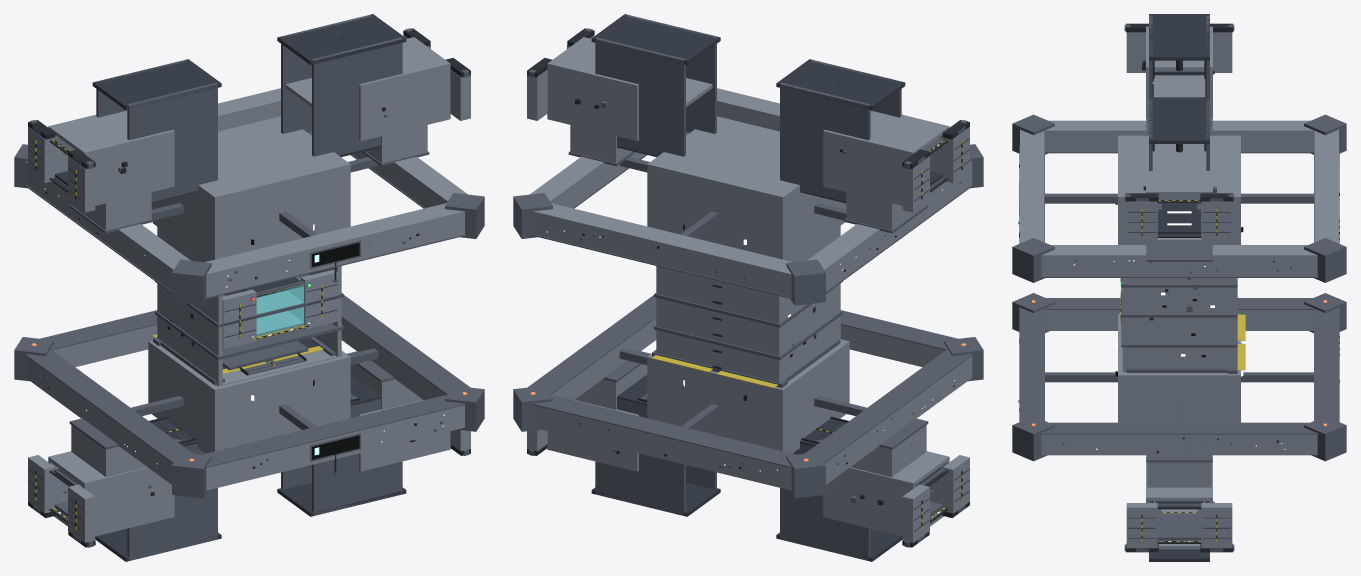
File: ring-s.glb
3 views of the same model, side by side, from view 1: azimuth 30°, elevation 25°; view 2: azimuth 150°, elevation 25°; view 3: azimuth 270°, elevation 25° (orthographic). The views are drawn at different scales.
Parts seen in each view (by area): view 1: hub (×2), ringRun0 (×2), ringHoist0ShaftWall0 (×2), ringHoist1ShaftWall1 (×2), berthPylon1Wall1 (×2), ringRun3 (×2), berthPylon0Wall0 (×2), ringRun1 (×2), ringHoist0PocketFloor (×2), joiningHubWall0, ringHoist1PocketFloor (×2), ringRun2 (×2) (+29 smaller); view 2: hub (×2), ringRun2 (×2), ringHoist0ShaftWall1 (×2), ringHoist1ShaftWall0 (×2), joiningHubAft, berthPylon1Wall0 (×2), berthPylon0Wall1 (×2), ringRun3 (×2), ringRun1 (×2), joiningHubWall0, ringHoist0PocketFloor (×2), ringRun0 (×2) (+22 smaller); view 3: ringRun1 (×2), hub (×2), ringRun3 (×2), joiningHubWall1, ringHoist0PocketFloor (×2), ringRail1, ringHoist1PocketFloor, ringRail0, ringRail2, berthPylon1Floor, ringRun0, ringRun2 (+22 smaller).
Boxes of the visible parts, left/top/right/bottom form: hub (×2): left=148, top=116, right=350, bottom=453; ringRun0 (×2): left=205, top=203, right=464, bottom=490; ringHoist0ShaftWall0 (×2): left=127, top=82, right=402, bottom=515; ringHoist1ShaftWall1 (×2): left=127, top=37, right=402, bottom=560; berthPylon1Wall1 (×2): left=82, top=62, right=450, bottom=535; ringRun3 (×2): left=25, top=152, right=467, bottom=484; berthPylon0Wall0 (×2): left=82, top=130, right=450, bottom=470; ringRun1 (×2): left=25, top=161, right=446, bottom=400; ringHoist0PocketFloor (×2): left=92, top=59, right=406, bottom=516; joiningHubWall0: left=159, top=227, right=222, bottom=386; ringHoist1PocketFloor (×2): left=95, top=14, right=406, bottom=561; ringRun2 (×2): left=52, top=88, right=280, bottom=367; hub (×2): left=647, top=116, right=849, bottom=453; ringRun2 (×2): left=533, top=203, right=792, bottom=490; ringHoist0ShaftWall1 (×2): left=595, top=82, right=870, bottom=515; ringHoist1ShaftWall0 (×2): left=595, top=37, right=870, bottom=560; joiningHubAft: left=656, top=266, right=779, bottom=381; berthPylon1Wall0 (×2): left=547, top=62, right=915, bottom=535; berthPylon0Wall1 (×2): left=547, top=130, right=911, bottom=470; ringRun3 (×2): left=530, top=152, right=972, bottom=484; ringRun1 (×2): left=551, top=161, right=972, bottom=400; joiningHubWall0: left=775, top=226, right=840, bottom=382; ringHoist0PocketFloor (×2): left=591, top=59, right=905, bottom=516; ringRun0 (×2): left=717, top=88, right=945, bottom=367; ringRun1 (×2): left=1041, top=120, right=1317, bottom=455; hub (×2): left=1118, top=135, right=1240, bottom=422; ringRun3 (×2): left=1041, top=245, right=1317, bottom=330; joiningHubWall1: left=1122, top=278, right=1236, bottom=371; ringHoist0PocketFloor (×2): left=1149, top=14, right=1209, bottom=561; ringRail1: left=1040, top=422, right=1318, bottom=434; ringHoist1PocketFloor: left=1149, top=97, right=1209, bottom=143; ringRail0: left=1019, top=307, right=1044, bottom=421; ringRail2: left=1314, top=307, right=1339, bottom=421; berthPylon1Floor: left=1146, top=151, right=1212, bottom=195; ringRun0: left=1020, top=129, right=1044, bottom=243; ringRun2: left=1314, top=129, right=1338, bottom=243.
Size of the model in its own units: 55.18 by 61.9 by 44.5.
